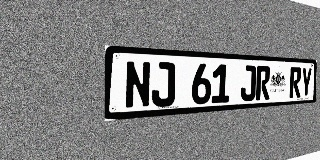1: (211, 64, 230, 103)
6: (192, 63, 212, 105)
J: (151, 62, 175, 107), (240, 65, 256, 101)
N: (124, 60, 151, 109)
R: (256, 66, 270, 100), (289, 67, 301, 98)
Y: (301, 67, 312, 97)
